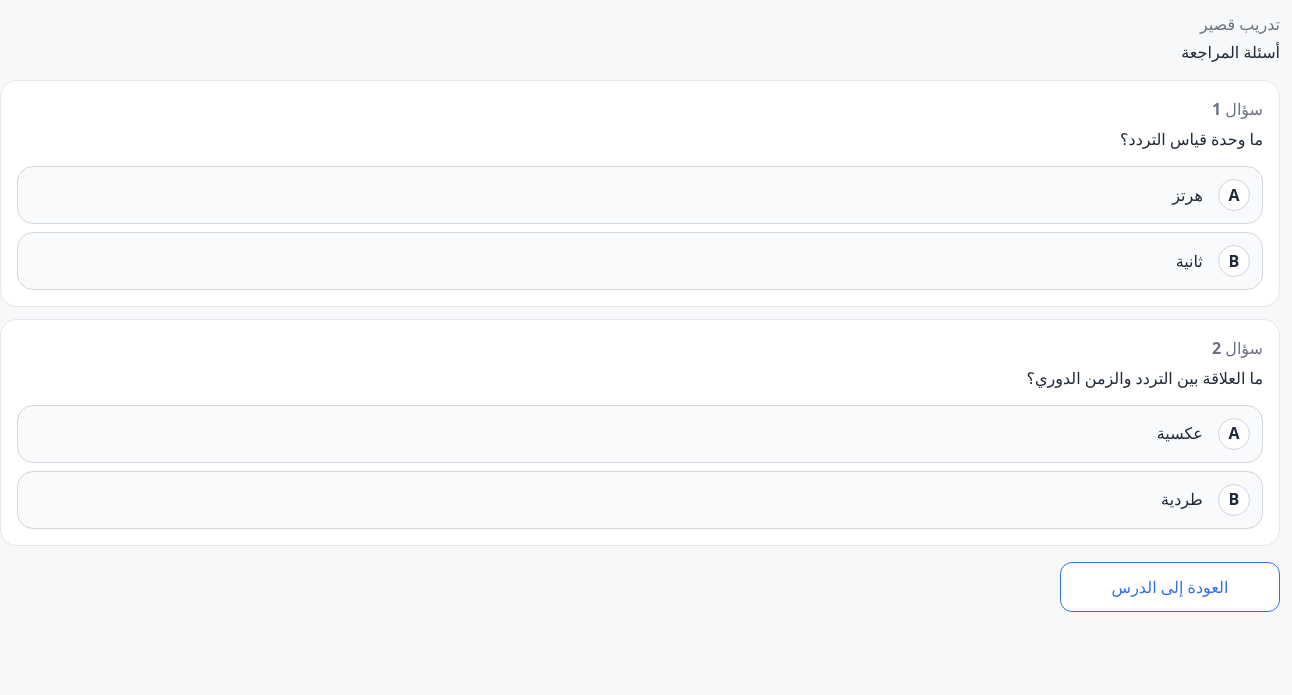
it: ReviewQuestionsView › يعرض التغذية الراجعة الخاطئة والإجابة الصحيحة عند الاختيار الخاطئ
Step 1. Click the button "B ثانية" → point(1234, 261), box [17,232,1263,290]
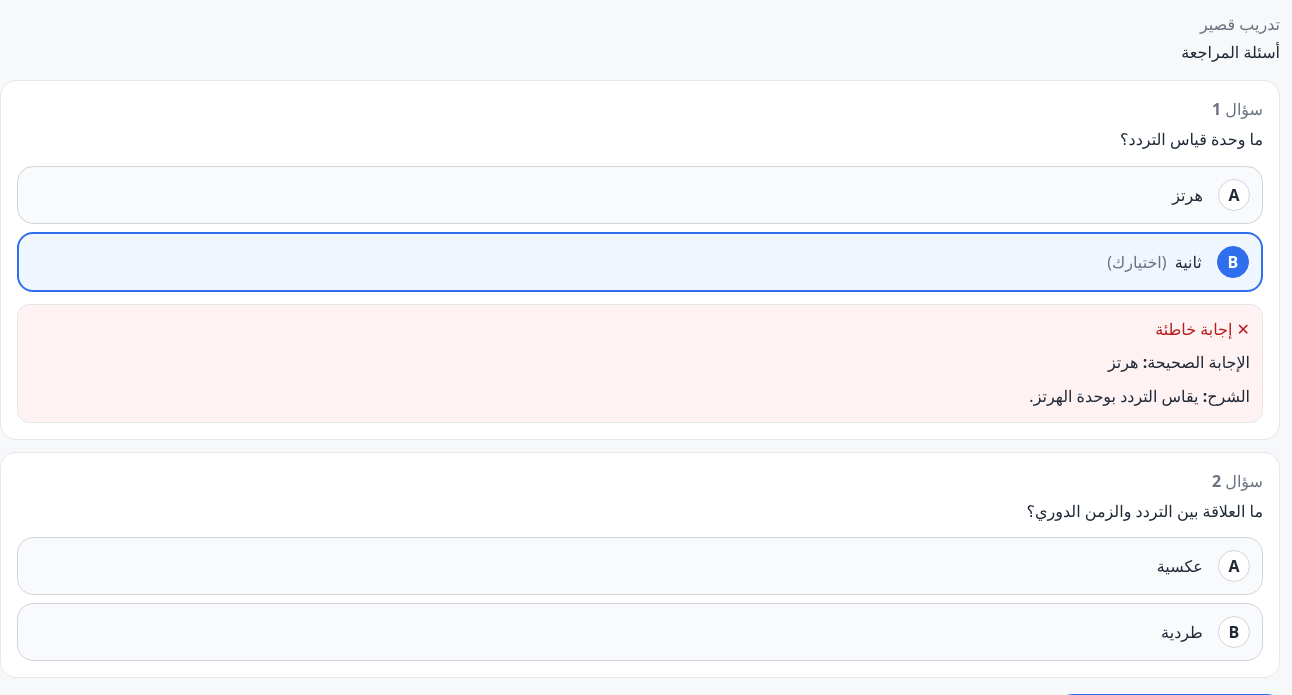
Expected: the element "ما وحدة قياس التردد؟" is shown, [0,80,1280,440]
Now the text "✕ إجابة خاطئة" is shown, box [1155,318,1250,340]
Now the text "الإجابة الصحيحة: هرتز" is shown, box [1108,351,1250,373]
